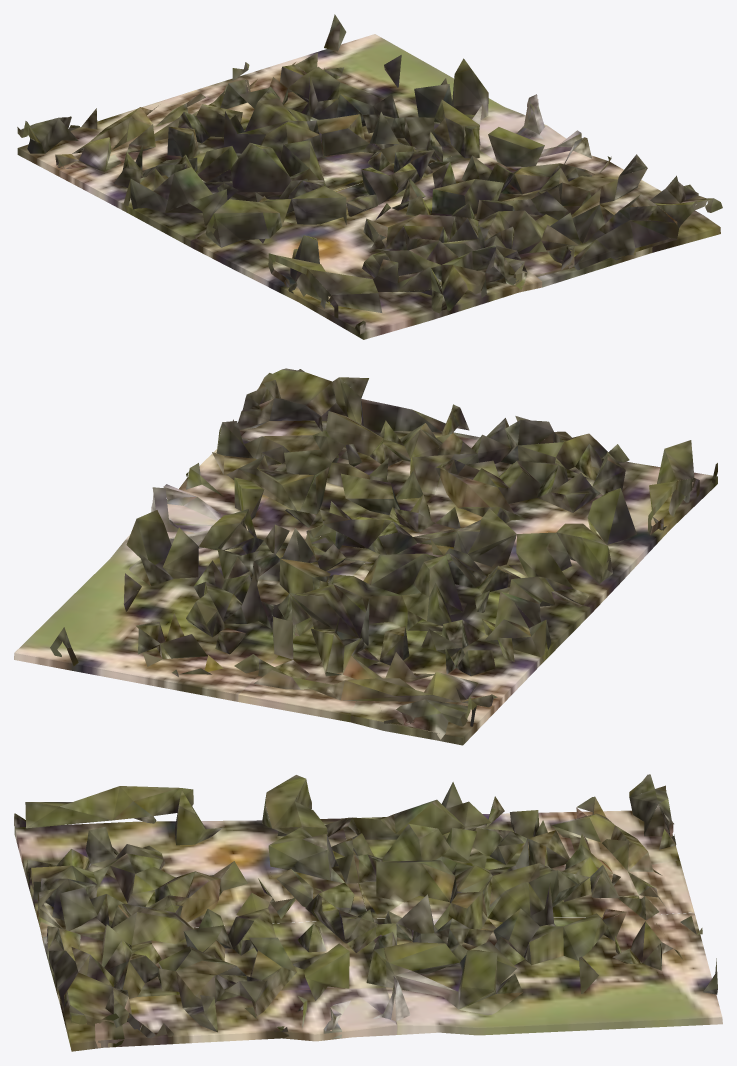
3 views of the same model, one above another, from view 1: azimuth 30°, elevation 25°; view 2: azimuth 150°, elevation 25°; view 3: azimuth 270°, elevation 25° (orthographic). The views are drawn at different scales.
Parts seen in each view (by area): view 1: Mesh_0; view 2: Mesh_0; view 3: Mesh_0.
Boxes of the visible parts, box(x1,y1,x2,y2) form: Mesh_0: box(17, 14, 722, 339); Mesh_0: box(14, 368, 717, 745); Mesh_0: box(14, 774, 722, 1051).
Size of the model in its own units: 270 by 35.14 by 330.
Materials: 2 (2 with a texture image).
